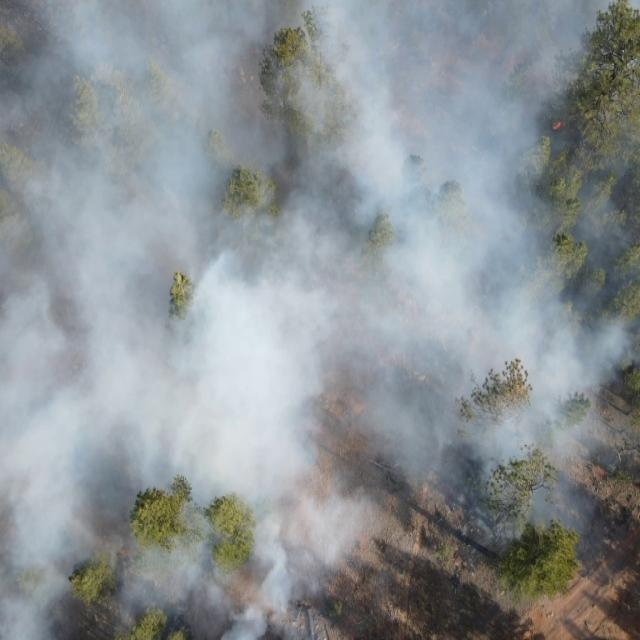fire: (552, 118, 564, 132)
smoke: (0, 1, 375, 640), (376, 2, 640, 557)
